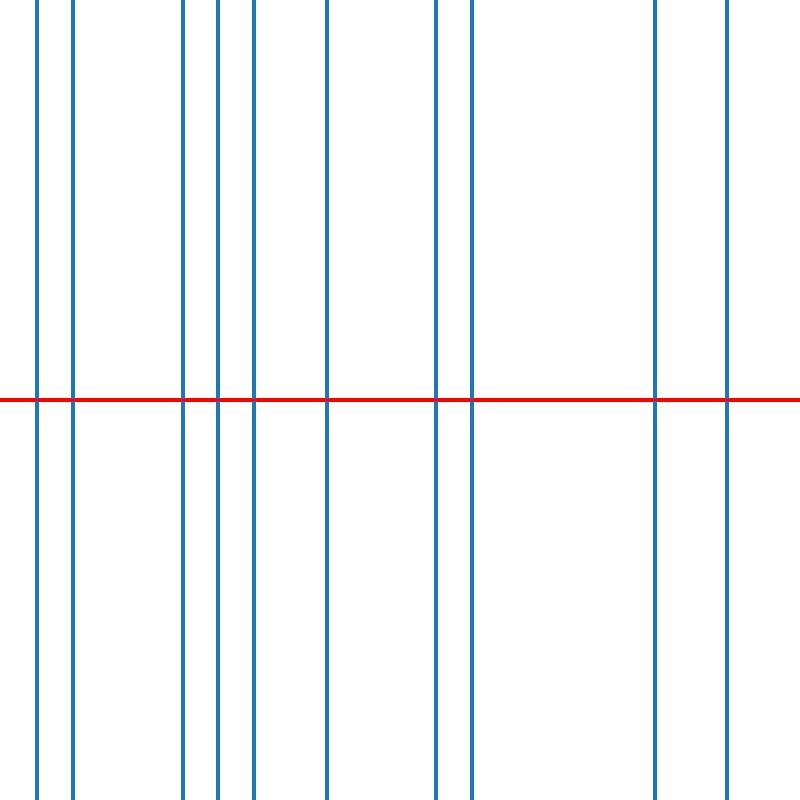root: (432, 396, 440, 404), (250, 396, 258, 404), (32, 396, 40, 404), (650, 396, 658, 404), (723, 396, 730, 404), (214, 396, 221, 404), (69, 396, 76, 404), (323, 396, 330, 404), (469, 396, 476, 404), (178, 396, 185, 404)
